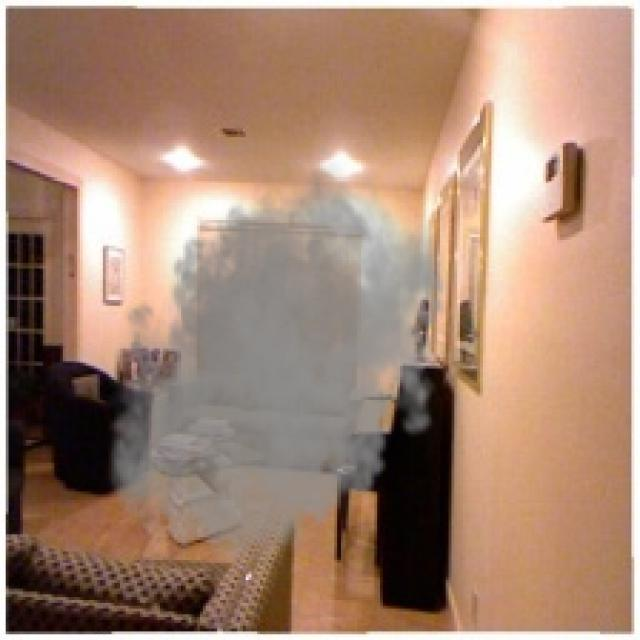Smoke: (102, 148, 458, 574)
